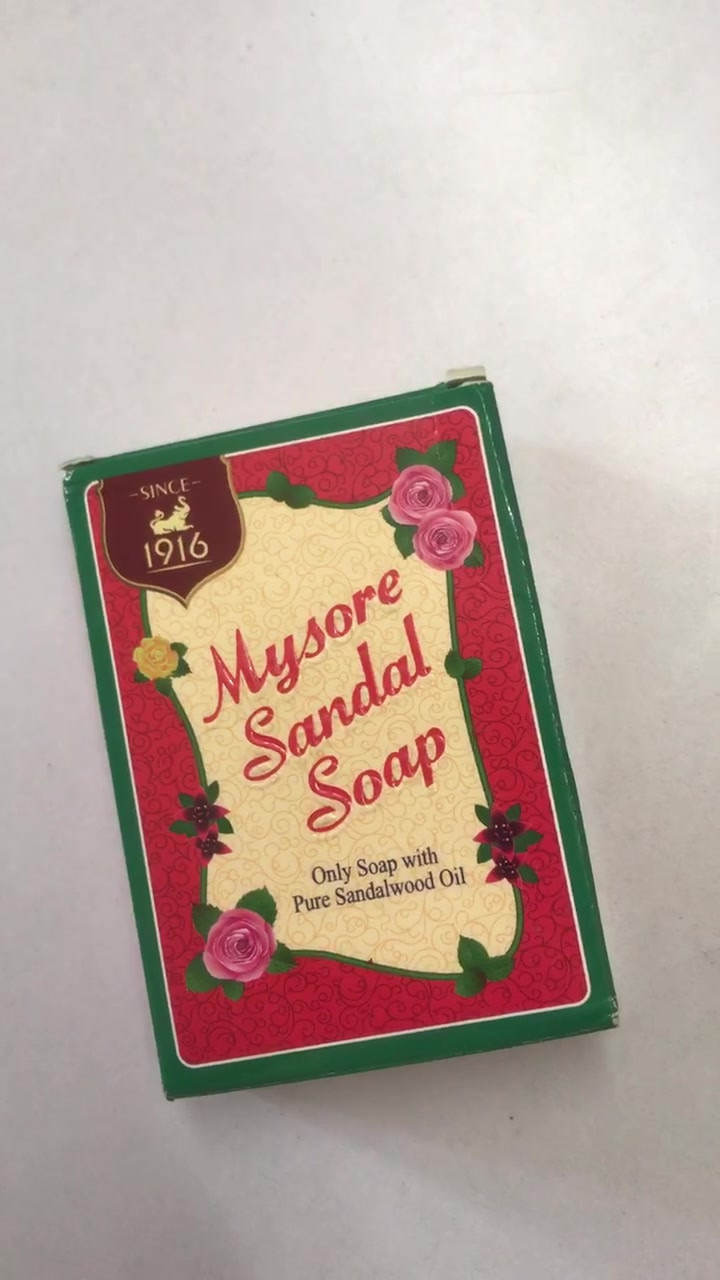mysore sandal soap: (60, 374, 614, 1095)
